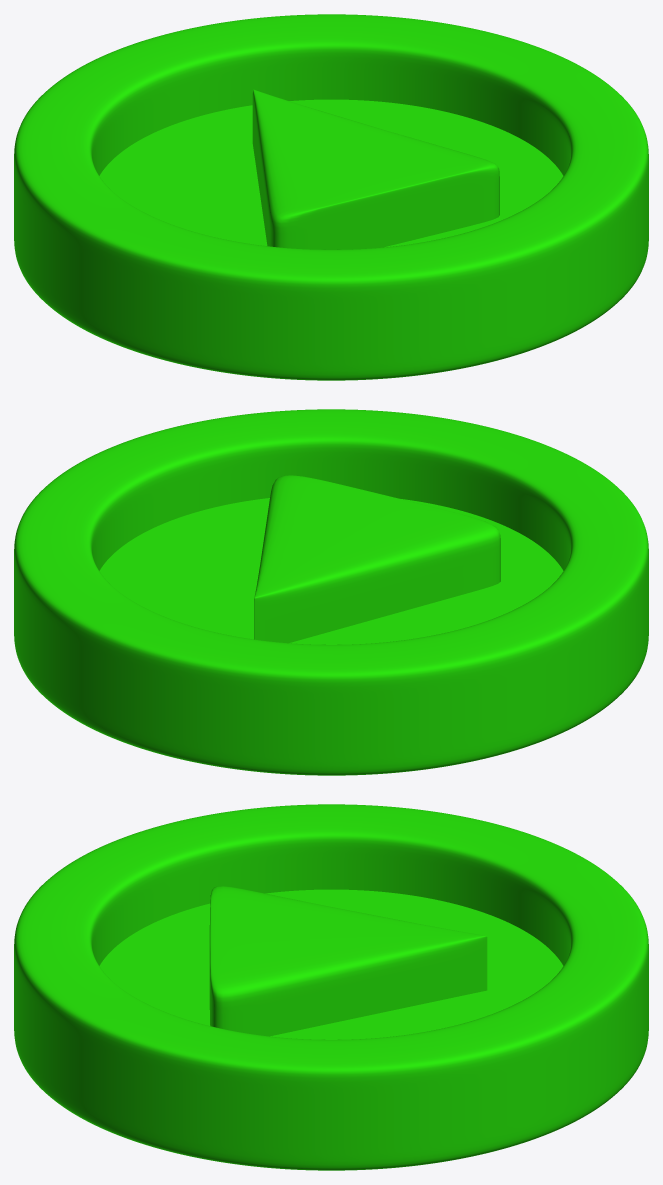
File: strzalka5.gltf
3 renders of one model, top to bottom at view 1: azimuth 30°, elevation 25°; view 2: azimuth 150°, elevation 25°; view 3: azimuth 270°, elevation 25°, orthographic.
Visible parts, largest first — view 1: Cube; view 2: Cube; view 3: Cube.
Boxes of the visible parts, x1,y1,x2,y2 form: Cube: (14,14,648,380); Cube: (14,409,648,775); Cube: (14,804,648,1170).
Bounding box in the file's own units: 4.57 × 0.8303 × 4.57.
